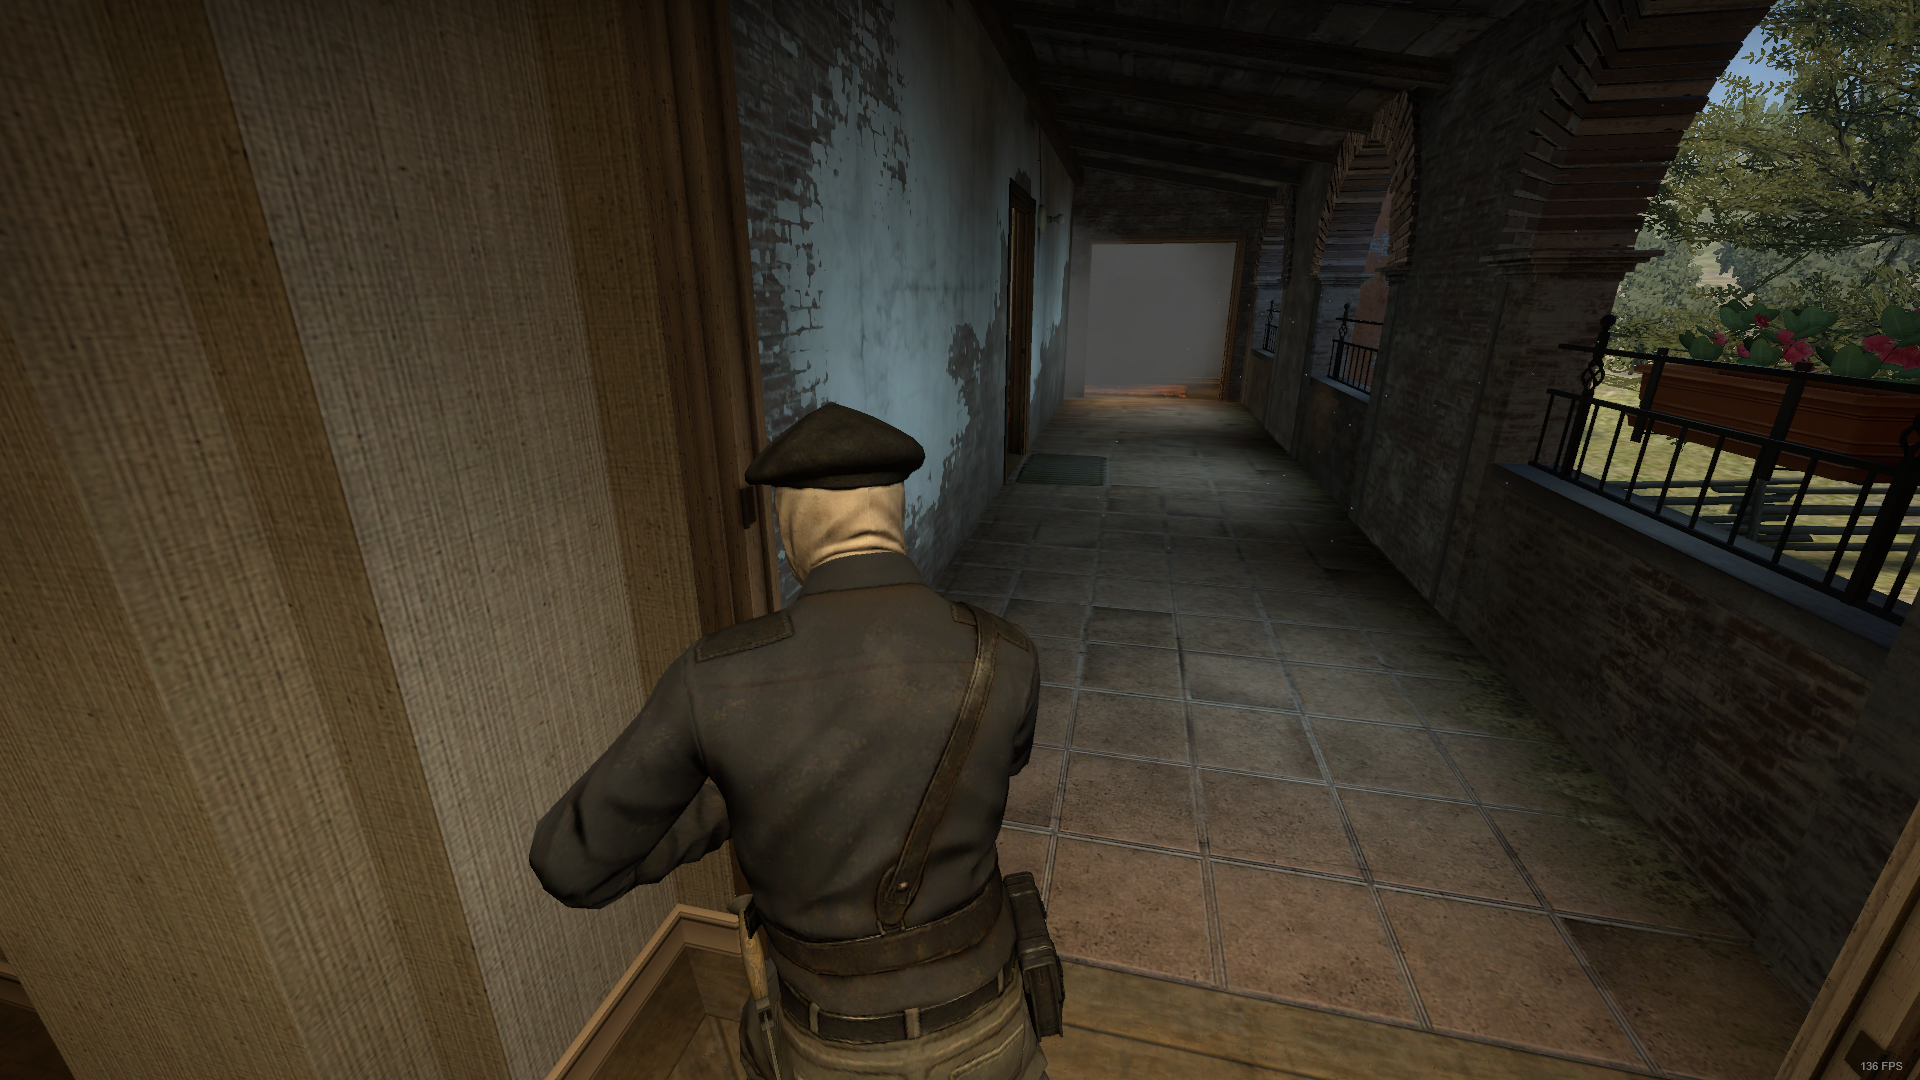t: (525, 392, 1096, 1080)
